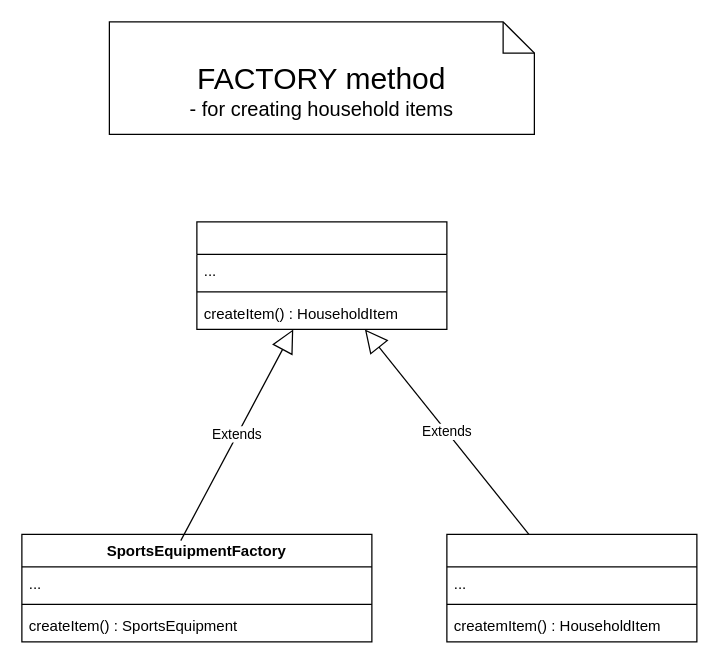
This 719x668 diagram has some shape labels left out. The shapes that lost their labels are listed below. From the top down, each one's box as (x1, y1, x2, y2) in pixels, then its label:
(196, 221, 447, 329): HouseholdItemsFactory
(446, 533, 697, 642): AppliancesFactory
